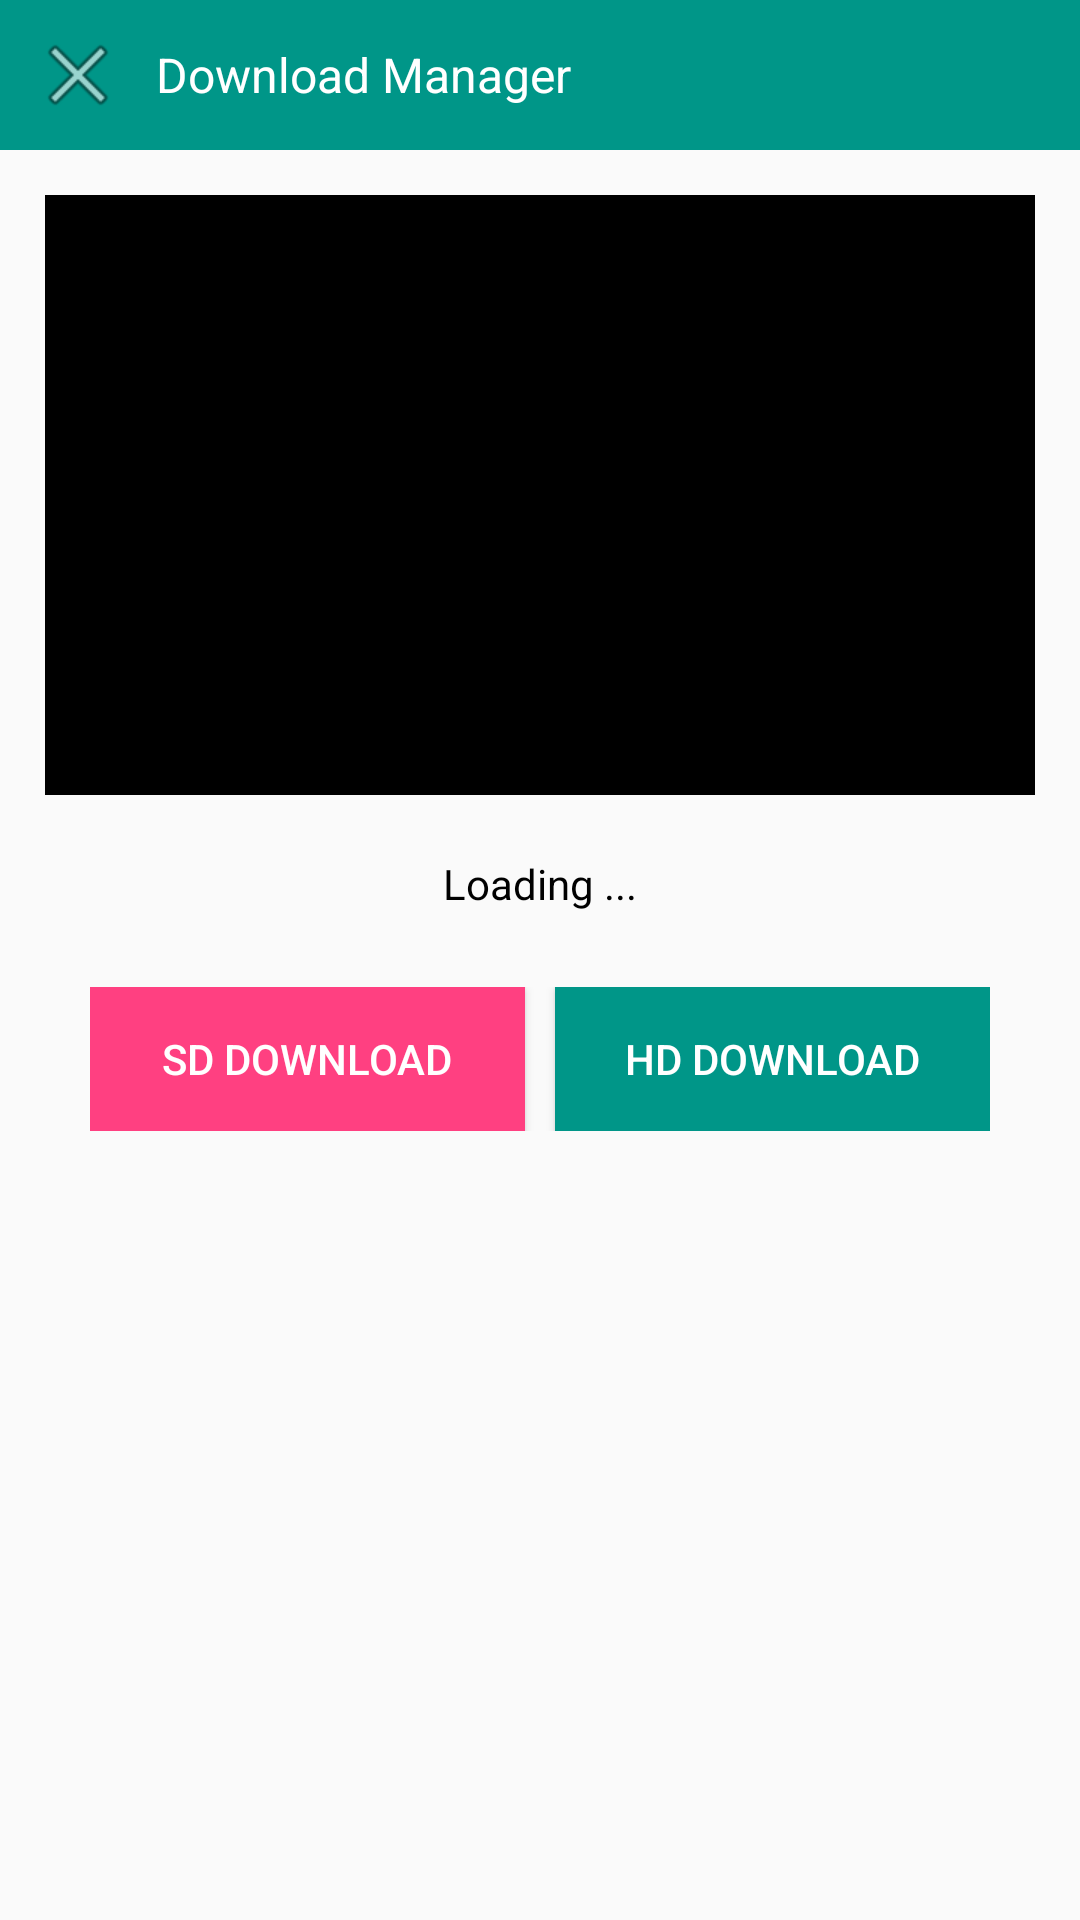

Icon bounding boxes for this 1080px x 1920px phone screenshot, format (x1, y1, x2, y2):
close clear cancel: (48, 45, 108, 105)
